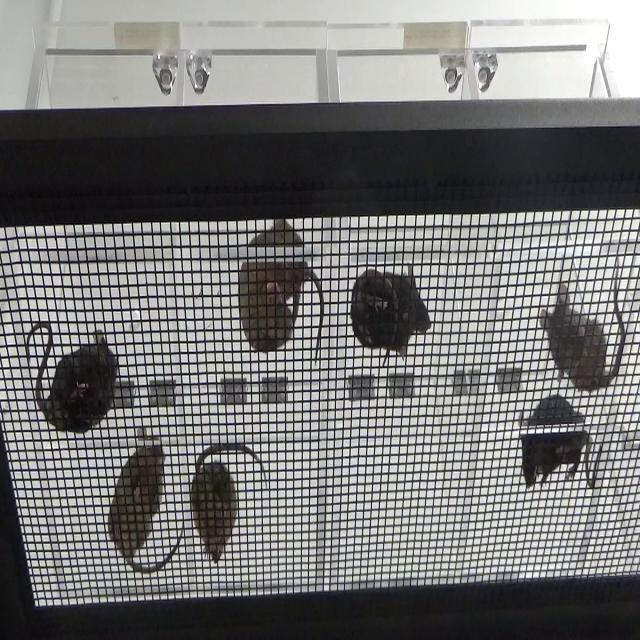scratch: (530, 262, 628, 396)
